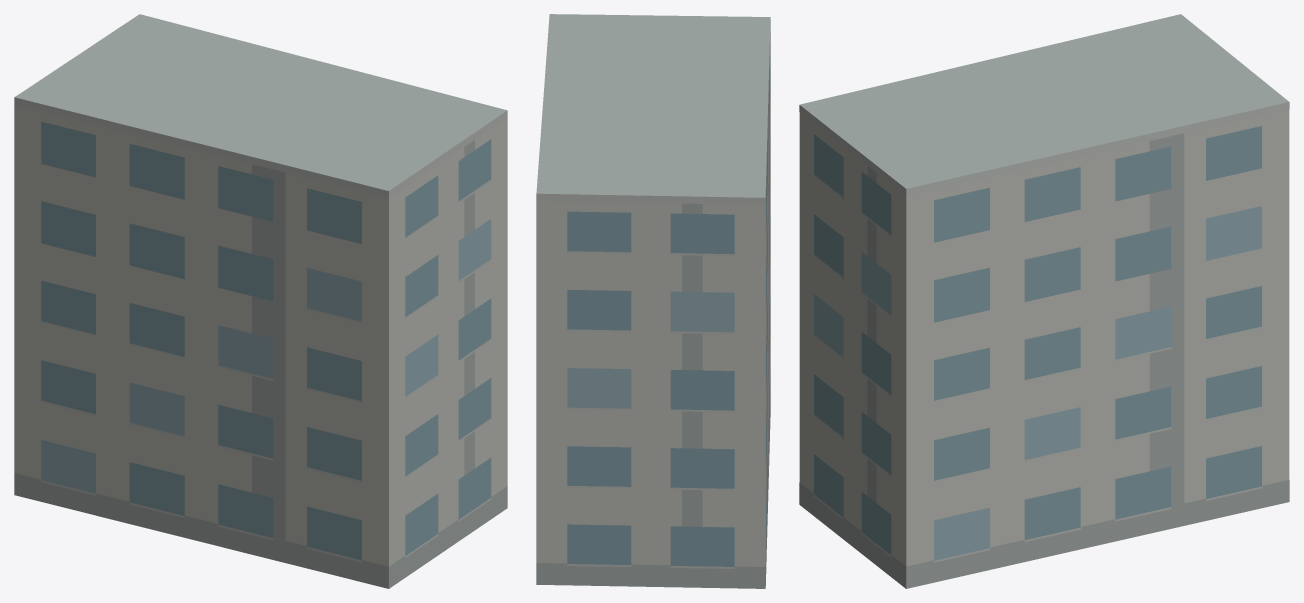
Rendered from survey-upis-32885819.glb.
3 renders of one model, left to right at view 1: azimuth 30°, elevation 25°; view 2: azimuth 150°, elevation 25°; view 3: azimuth 270°, elevation 25°, orthographic. The views are drawn at different scales.
Visible parts, largest first — view 1: survey-upis-32885819.tmp; view 2: survey-upis-32885819.tmp; view 3: survey-upis-32885819.tmp.
Part boxes in pixels (box(x1,y1,x2,y2)): survey-upis-32885819.tmp: box(14, 14, 507, 588); survey-upis-32885819.tmp: box(536, 14, 770, 588); survey-upis-32885819.tmp: box(799, 14, 1289, 588).
Bounding box in the file's own units: 12.39 × 13.2 × 14.67.
